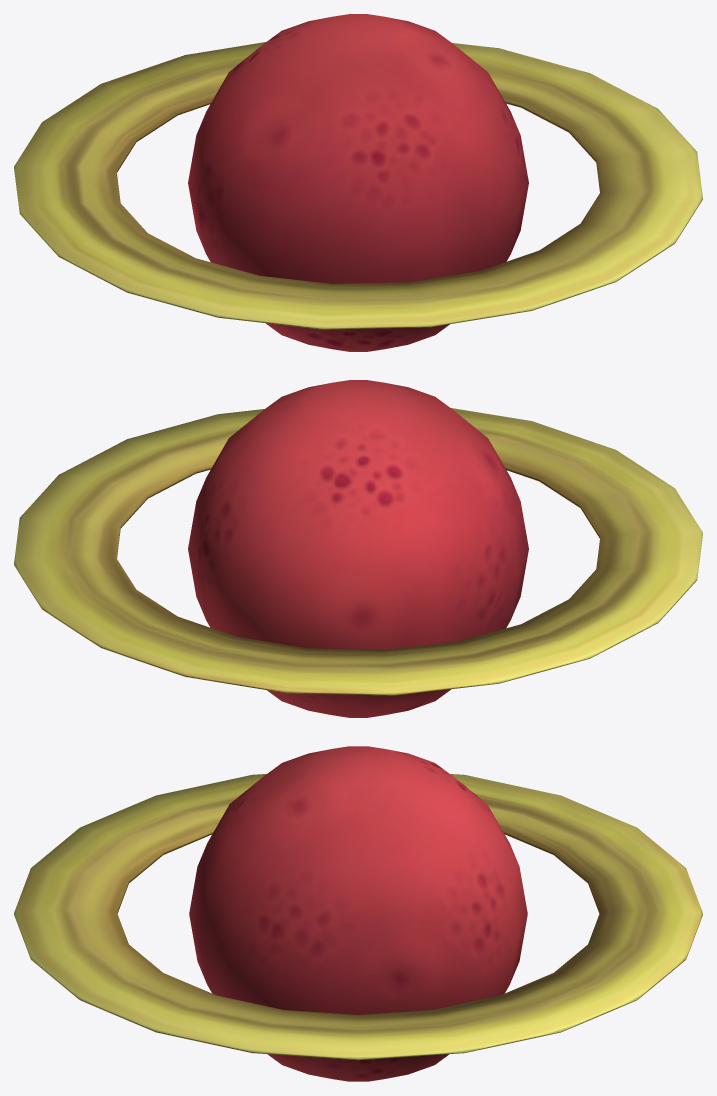
The model's file is Planet_GoldenEruption.fbx.
The picture shows the model from 3 angles, top to bottom: view 1: azimuth 30°, elevation 25°; view 2: azimuth 150°, elevation 25°; view 3: azimuth 270°, elevation 25°; orthographic projection.
Parts seen in each view (by area): view 1: Planet_GoldenEruption, Planet_GoldenEruption_Ring; view 2: Planet_GoldenEruption, Planet_GoldenEruption_Ring; view 3: Planet_GoldenEruption, Planet_GoldenEruption_Ring.
Part boxes in pixels (x1,y1,x2,y2): Planet_GoldenEruption: (188,14,528,351); Planet_GoldenEruption_Ring: (14,42,702,329); Planet_GoldenEruption: (188,380,528,717); Planet_GoldenEruption_Ring: (14,408,702,695); Planet_GoldenEruption: (189,746,527,1081); Planet_GoldenEruption_Ring: (14,774,702,1060).
Size of the model in its own units: 405 by 199 by 406.
